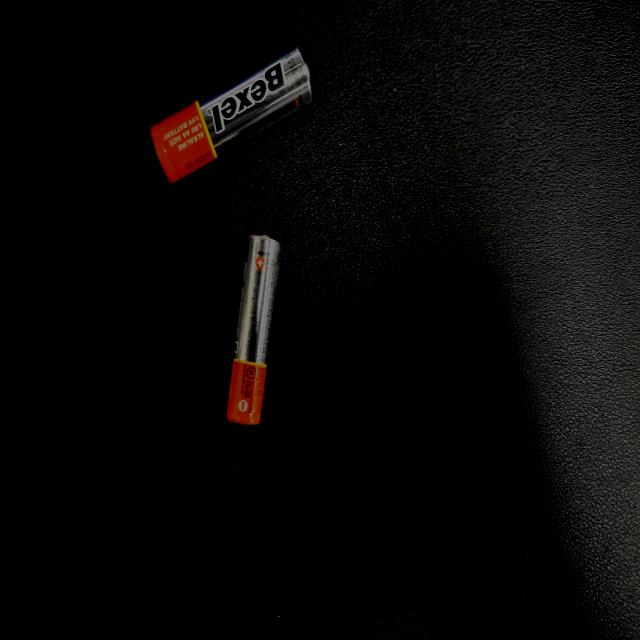AA: (33, 436, 137, 640)
AAA: (173, 479, 320, 554)
